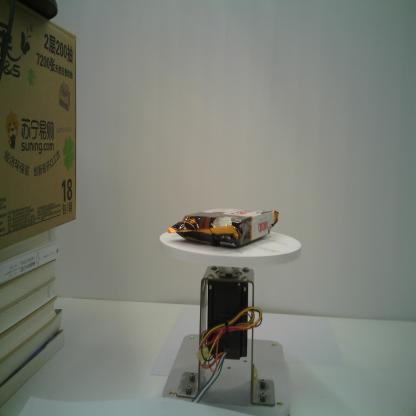Dessert: (164, 205, 279, 252)
